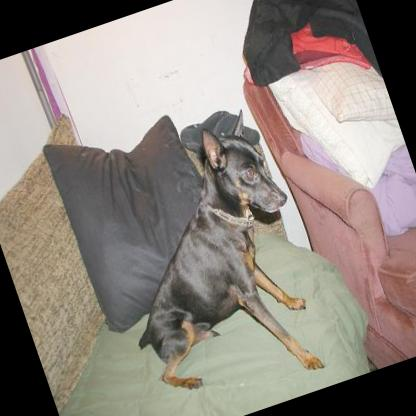miniature_pinscher: (75, 104, 343, 416)
